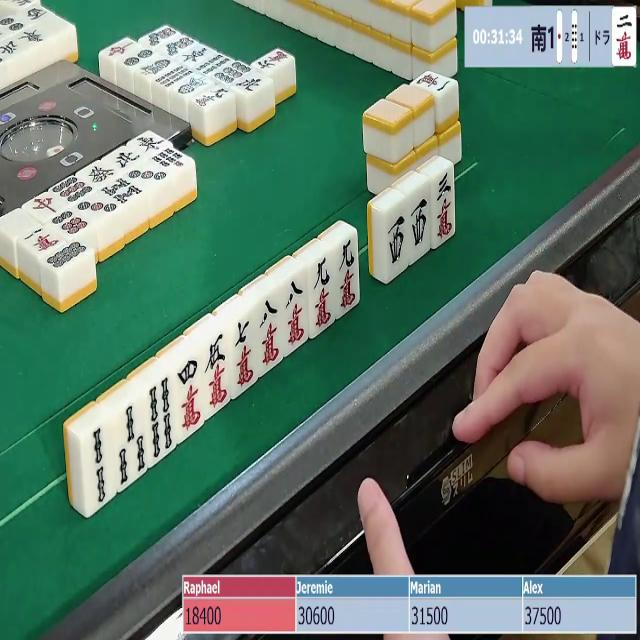m1: (411, 63, 456, 102)
m2: (613, 9, 636, 63)
m3: (434, 170, 456, 248)
m4: (171, 354, 209, 438)
m5: (204, 328, 235, 413)
m7: (231, 314, 264, 394)
m8: (252, 293, 287, 371), (280, 272, 310, 350)
m9: (310, 253, 337, 335), (338, 234, 360, 315)
s2: (81, 421, 116, 514)
s3: (114, 400, 153, 490)
s4: (144, 376, 180, 465)
t3: (74, 191, 122, 219), (124, 163, 168, 192)
t6: (47, 208, 94, 239)
t9: (48, 172, 96, 203)
west: (408, 191, 434, 261), (386, 210, 408, 274)
